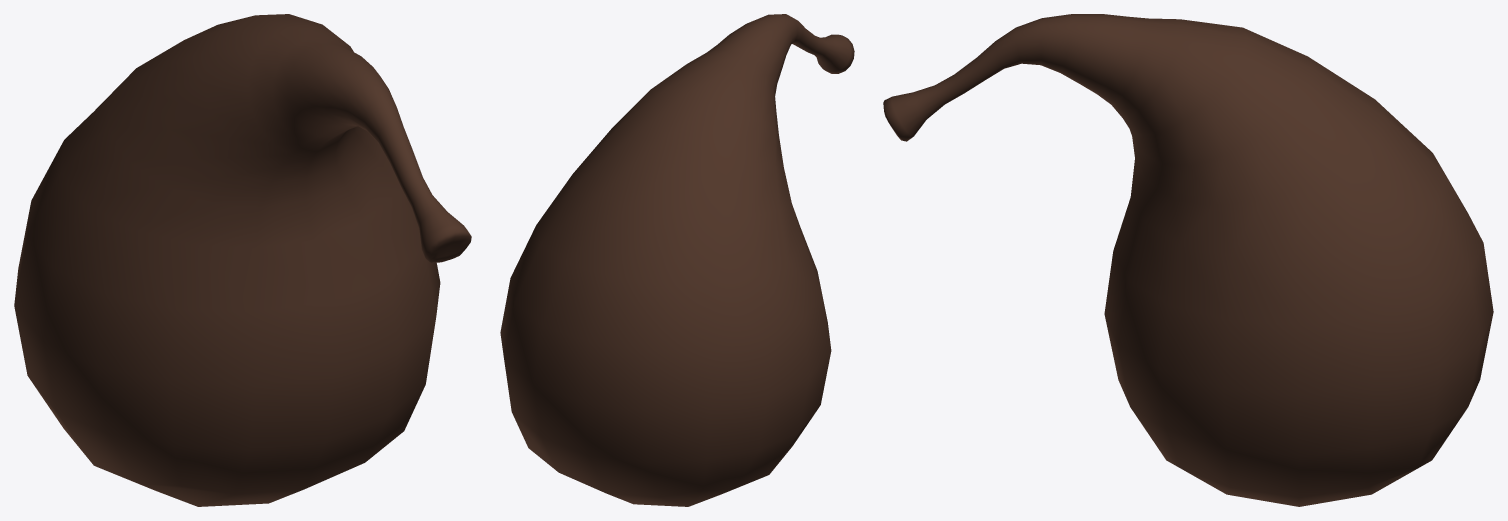
Rendered from SackV2.fbx.
3 views of the same model, side by side, from view 1: azimuth 30°, elevation 25°; view 2: azimuth 150°, elevation 25°; view 3: azimuth 270°, elevation 25° (orthographic). The views are drawn at different scales.
Visible parts, largest first — view 1: Sack; view 2: Sack; view 3: Sack.
Boxes of the visible parts, left/top/right/bottom form: Sack: left=14, top=14, right=471, bottom=506; Sack: left=500, top=14, right=854, bottom=506; Sack: left=883, top=14, right=1493, bottom=506.
Bounding box in the file's own units: 45.65 × 60.67 × 71.58.
